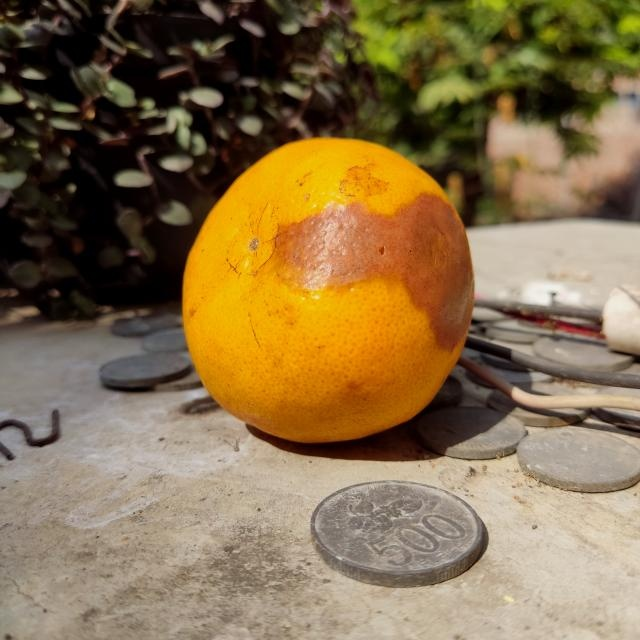agrume: (177, 134, 475, 446)
